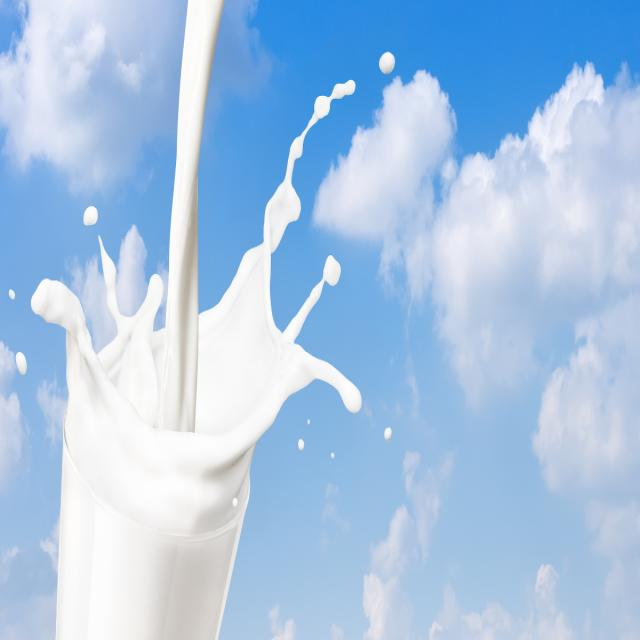Milk carton/jug: (35, 237, 305, 640)
